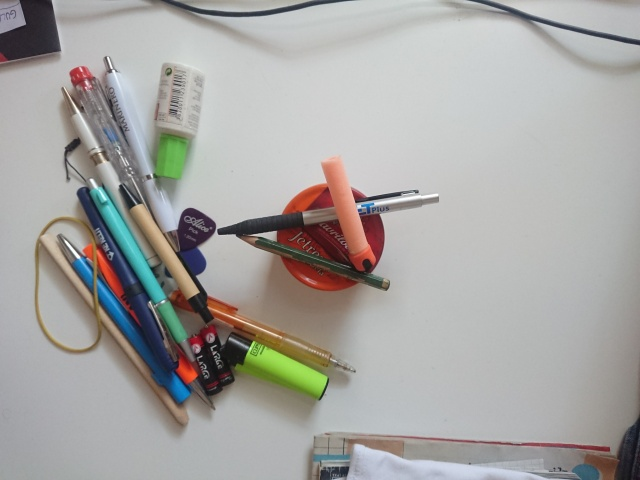Gavrilovic Pork Liver Pate 100g: (273, 180, 387, 294)
